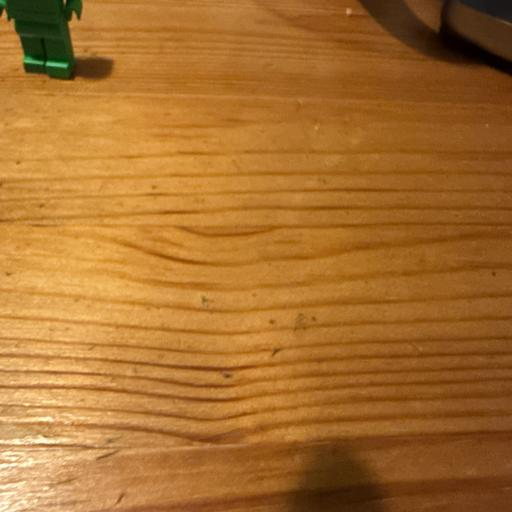Minifig: (0, 0, 82, 78)
